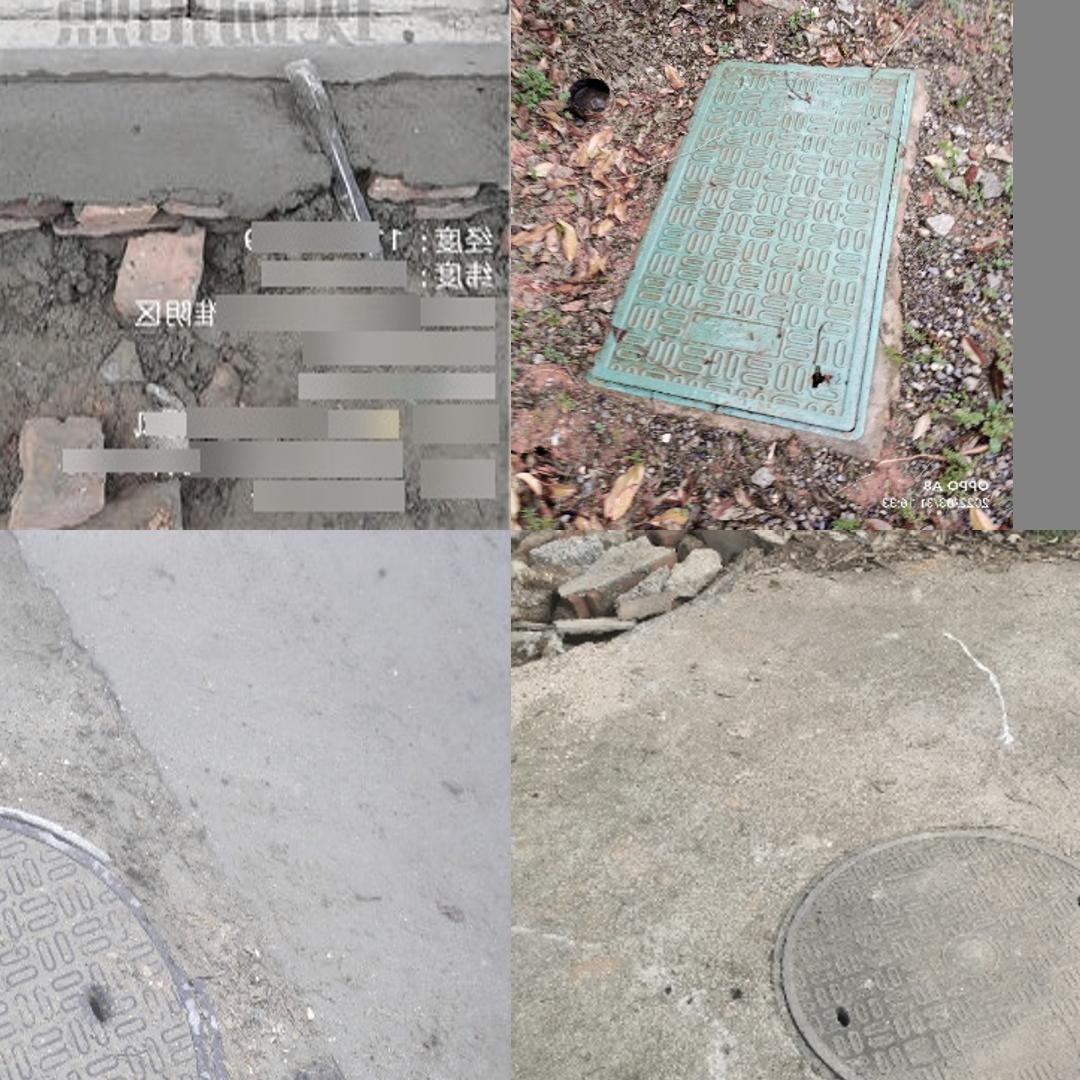good: (585, 56, 917, 439), (772, 828, 1080, 1080), (0, 796, 227, 1080), (0, 0, 509, 74)
